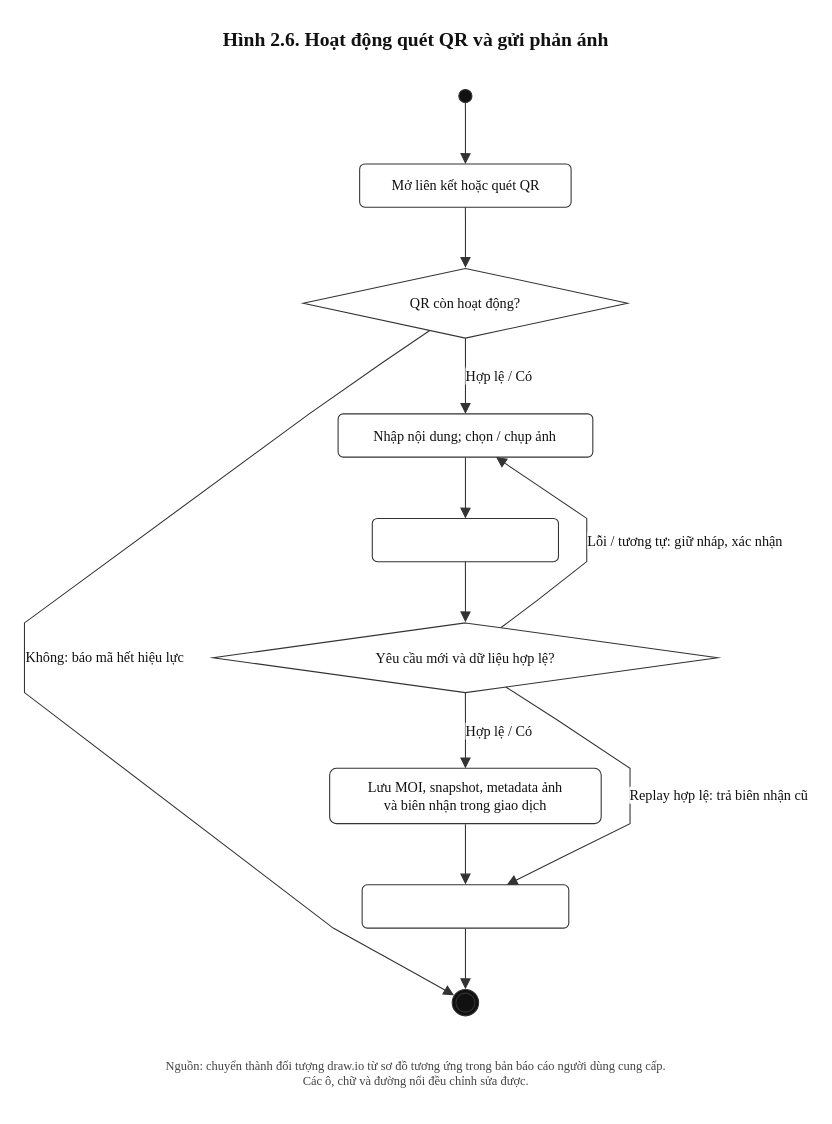
The diagram is 832 pixels wide and 1124 high, and some of its shapes have lost their labels. Here are the shapes that lost their labels. From the top down, the box of each, then its label:
(371, 517, 559, 562): Gửi kèm khóa yêu cầu
(361, 884, 569, 928): Trả mã tra cứu; xóa nháp
